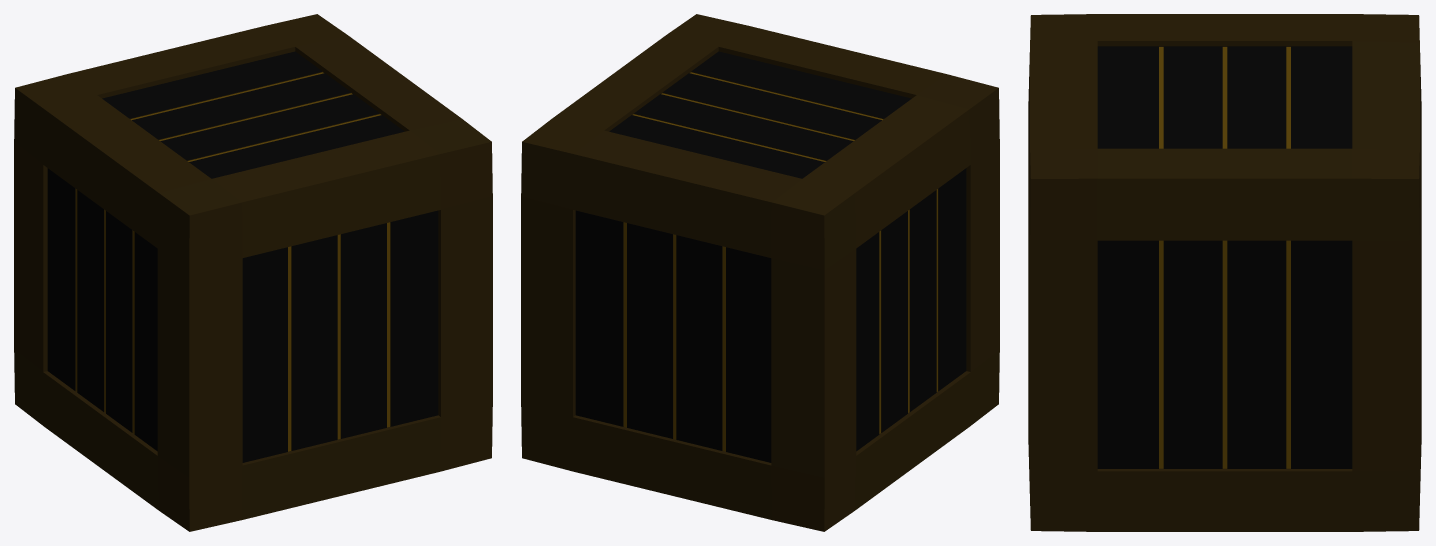
Rendered from Kiste.fbx.
3 renders of one model, left to right at view 1: azimuth 30°, elevation 25°; view 2: azimuth 150°, elevation 25°; view 3: azimuth 270°, elevation 25°, orthographic. The views are drawn at different scales.
Visible parts, largest first — view 1: Cube; view 2: Cube; view 3: Cube.
Part boxes in pixels (x1,y1,x2,y2): Cube: (14, 14, 492, 531); Cube: (521, 14, 999, 531); Cube: (1028, 14, 1421, 531).
Bounding box in the file's own units: 206 × 206 × 206.
